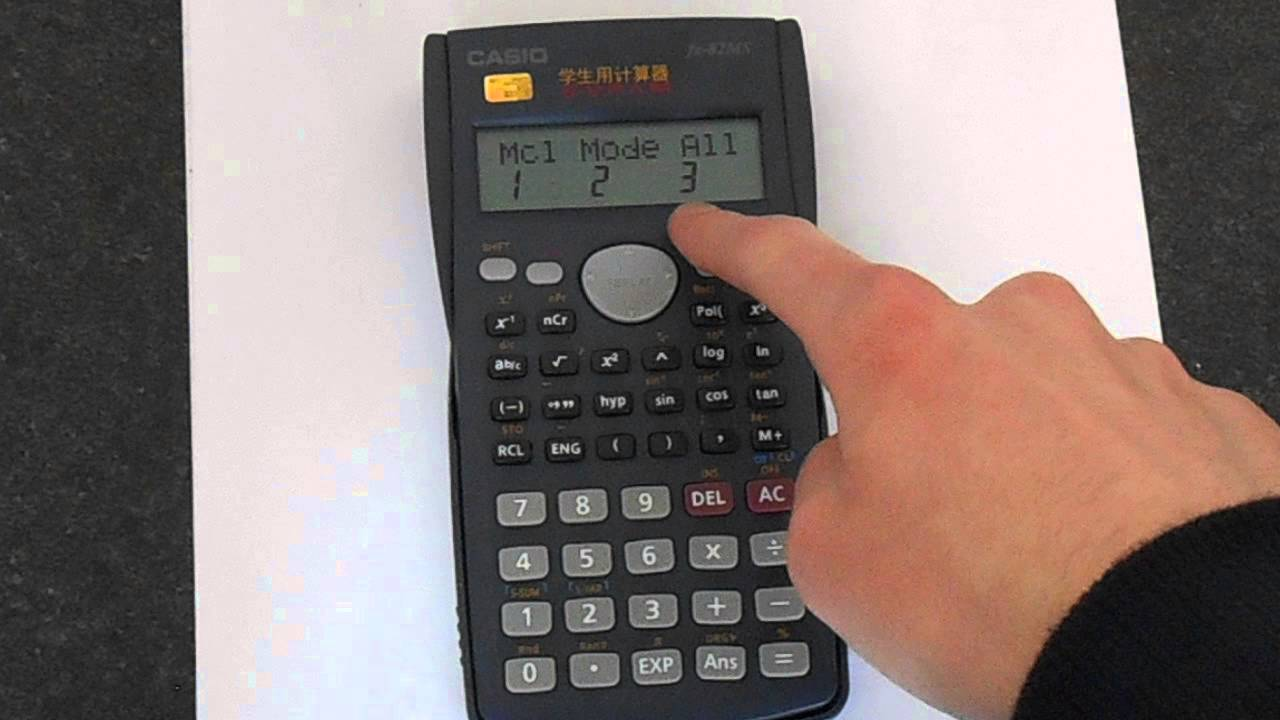Calculator: (413, 9, 860, 720)
